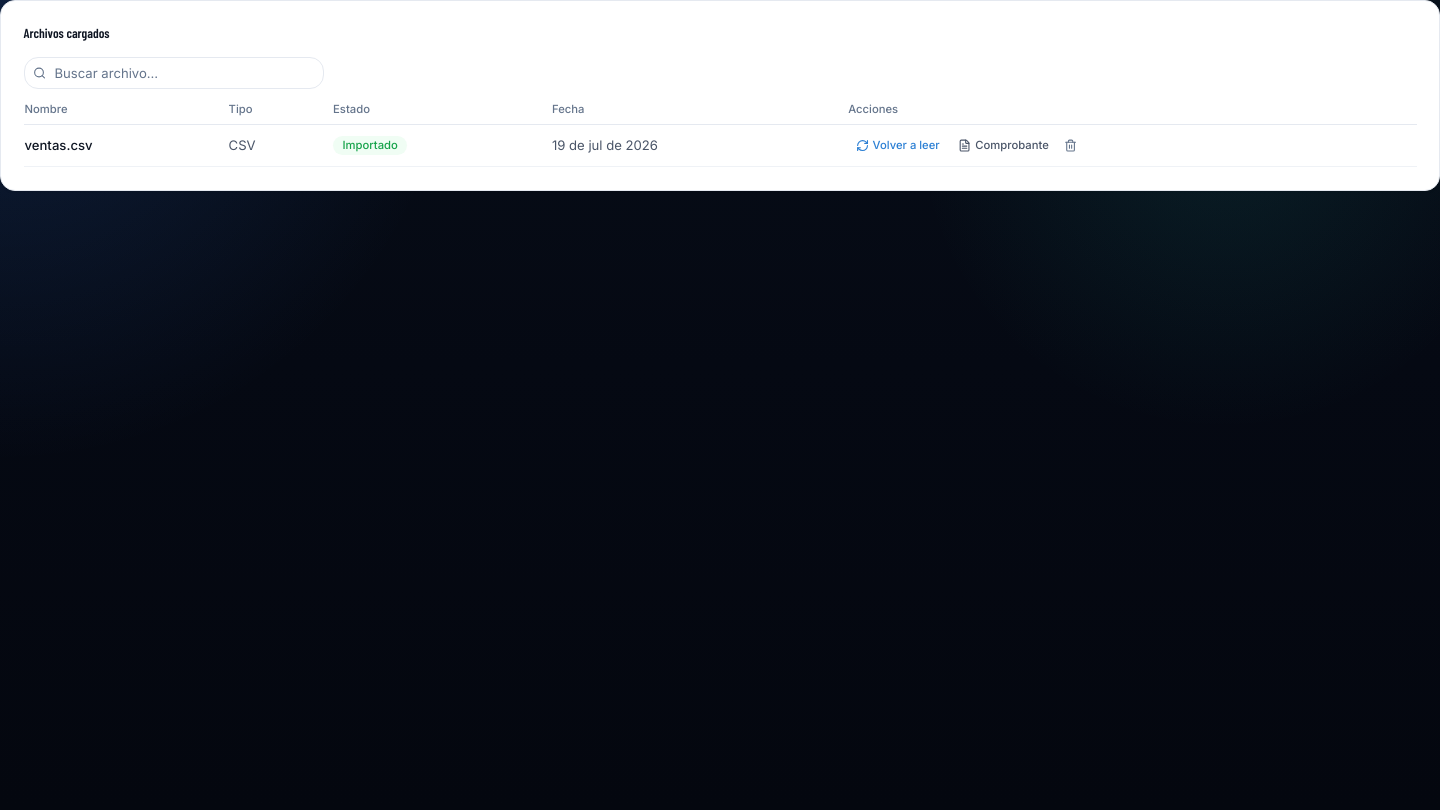
Test case: FileListSection — compuerta de relectura (B1) › un backend viejo (sin `to_lose`) sigue mostrando «A anular»
Click the button titled "Volver a leer este archivo". click: x=898, y=146
box: left=848, top=134, right=947, bottom=157
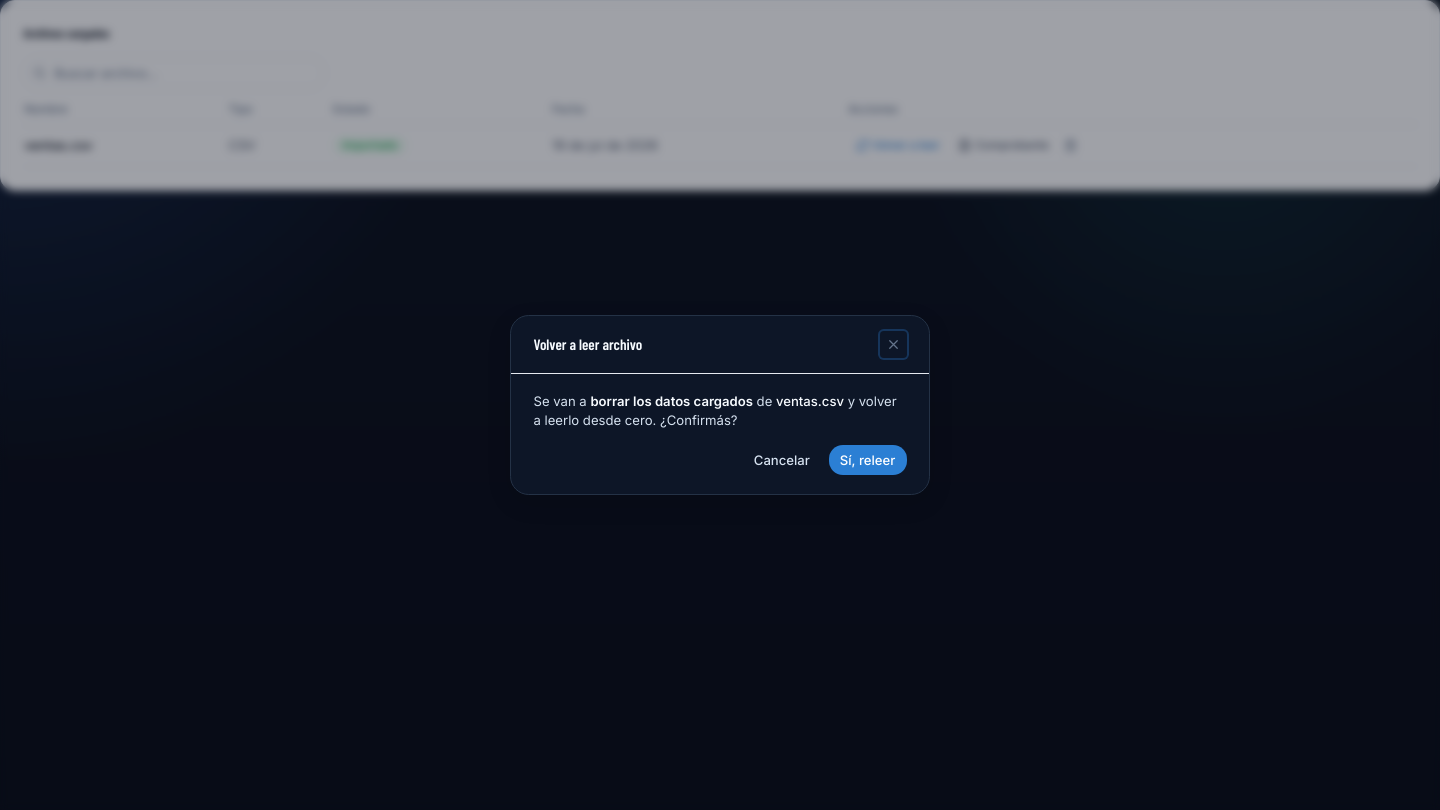
expect the button "Sí, releer" is shown: met
Click the button "Sí, releer". click: x=868, y=460
box: left=829, top=445, right=906, bottom=475
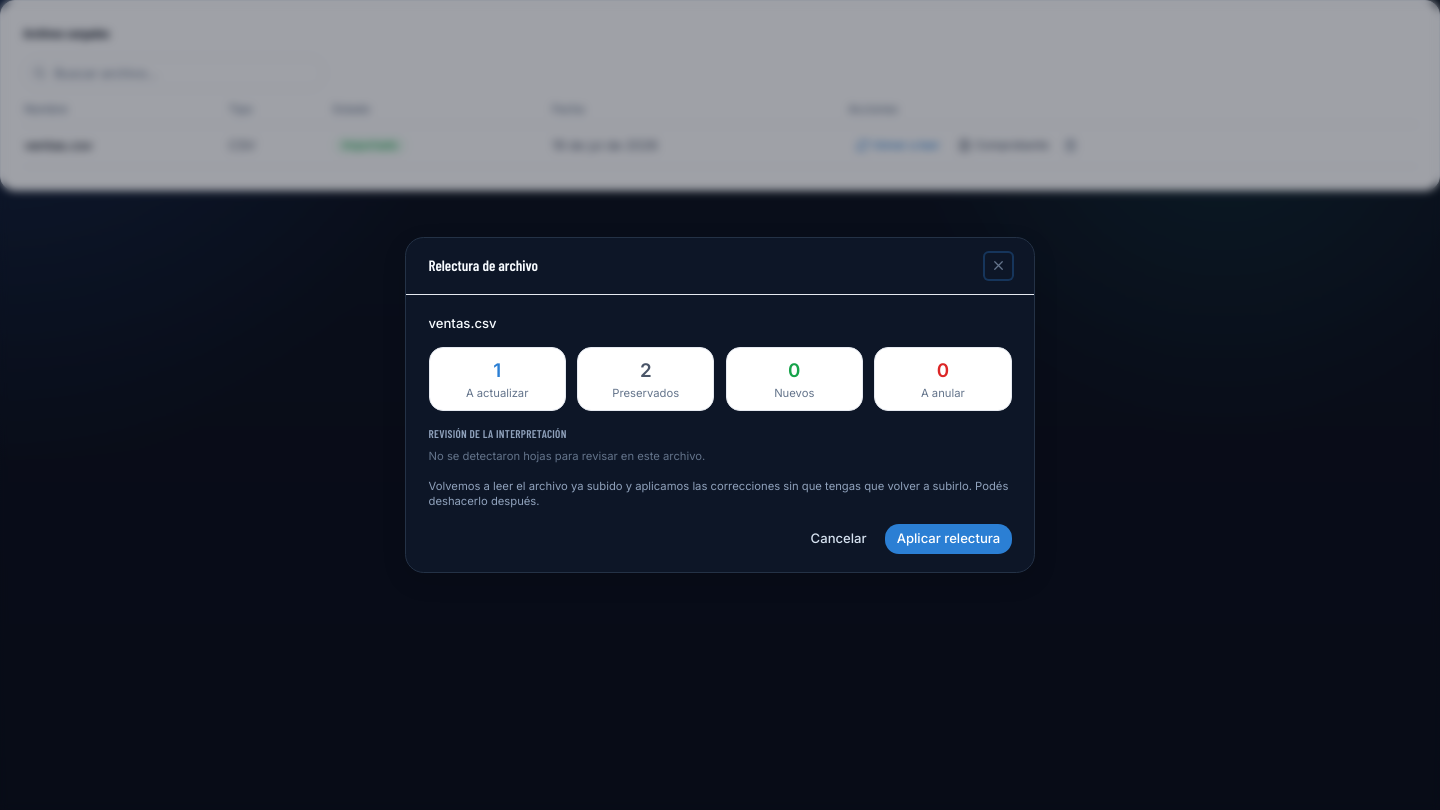
expect the button "Aplicar relectura" is shown: met, box left=885, top=524, right=1012, bottom=554
expect the text "A anular" is shown: met, box left=921, top=386, right=965, bottom=400
